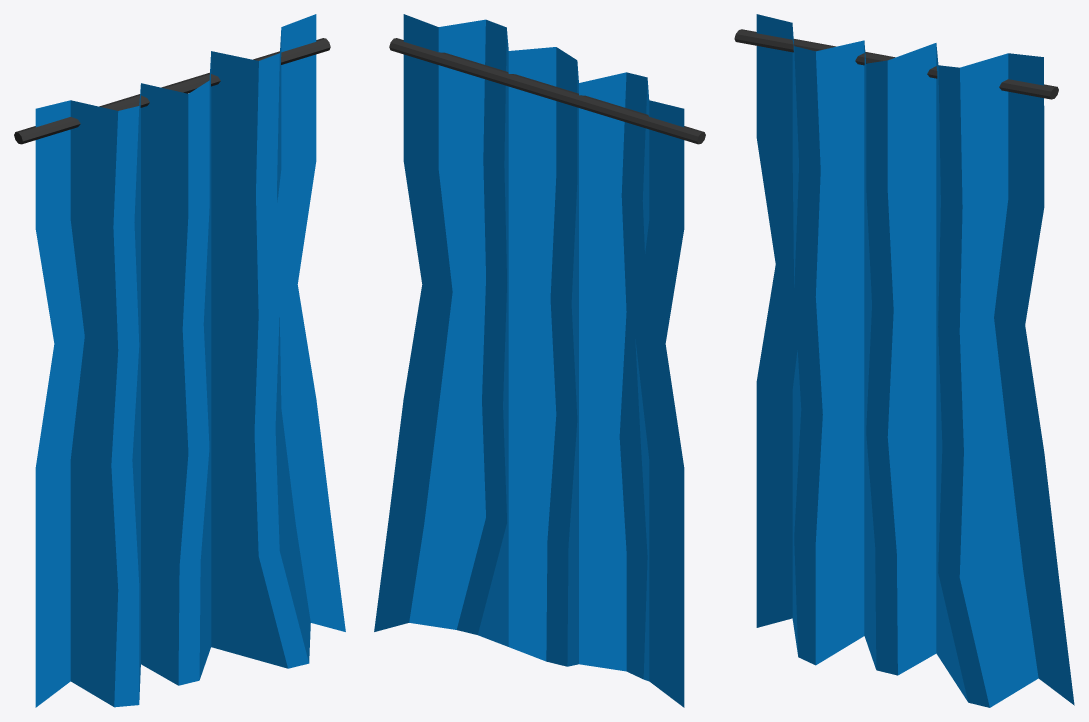
Rendered from SM_Curtains.fbx.
3 views of the same model, side by side, from view 1: azimuth 30°, elevation 25°; view 2: azimuth 150°, elevation 25°; view 3: azimuth 330°, elevation 25° (orthographic). The views are drawn at different scales.
Visible parts, largest first — view 1: pPlane1, pCylinder4; view 2: pPlane1, pCylinder4; view 3: pPlane1, pCylinder4.
Boxes of the visible parts, x1,y1,x2,y2 form: pPlane1: [35, 14, 345, 707]; pCylinder4: [14, 38, 330, 144]; pPlane1: [374, 14, 684, 707]; pCylinder4: [389, 38, 705, 144]; pPlane1: [756, 14, 1074, 707]; pCylinder4: [734, 29, 1058, 99].
Size of the model in its own units: 1.69 by 3.08 by 0.2439.
